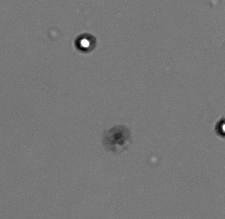Dead Cell: (109, 127, 131, 148)
Living Cell: (75, 34, 95, 51)
